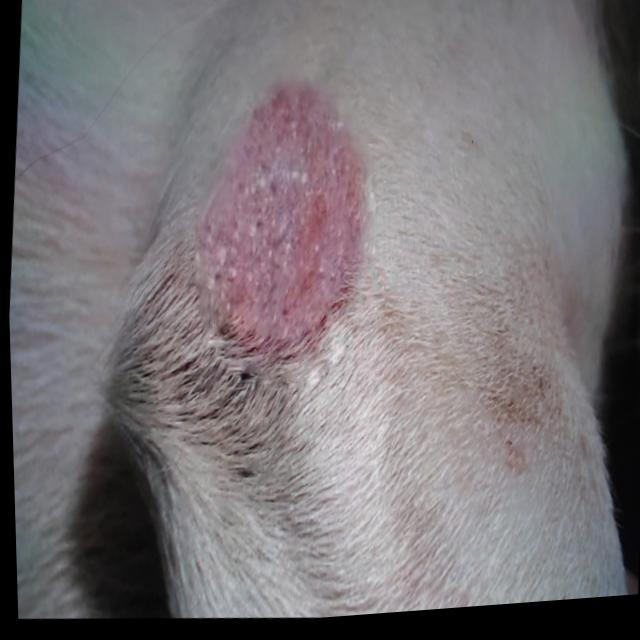ringworm: (177, 91, 374, 363)
